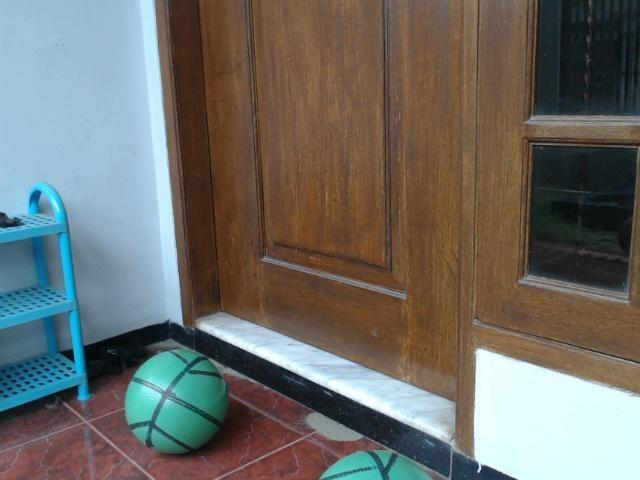Sports-Ball: (123, 351, 236, 450)
